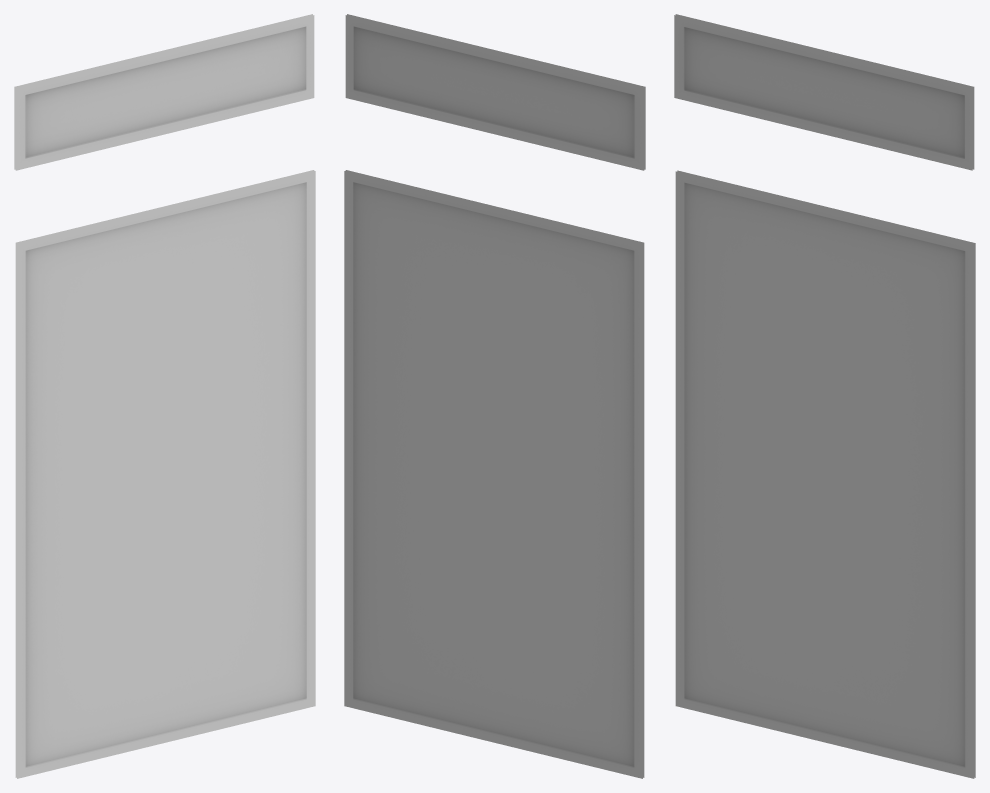
The model's file is Glass_Large_A.FBX.
3 renders of one model, left to right at view 1: azimuth 30°, elevation 25°; view 2: azimuth 150°, elevation 25°; view 3: azimuth 330°, elevation 25°, orthographic.
Visible parts, largest first — view 1: Glass_Large_A; view 2: Glass_Large_A; view 3: Glass_Large_A.
Boxes of the visible parts, x1,y1,x2,y2 form: Glass_Large_A: (14, 14, 315, 778); Glass_Large_A: (344, 14, 645, 778); Glass_Large_A: (674, 14, 975, 778).
Bounding box in the file's own units: 125 × 275 × 1.
